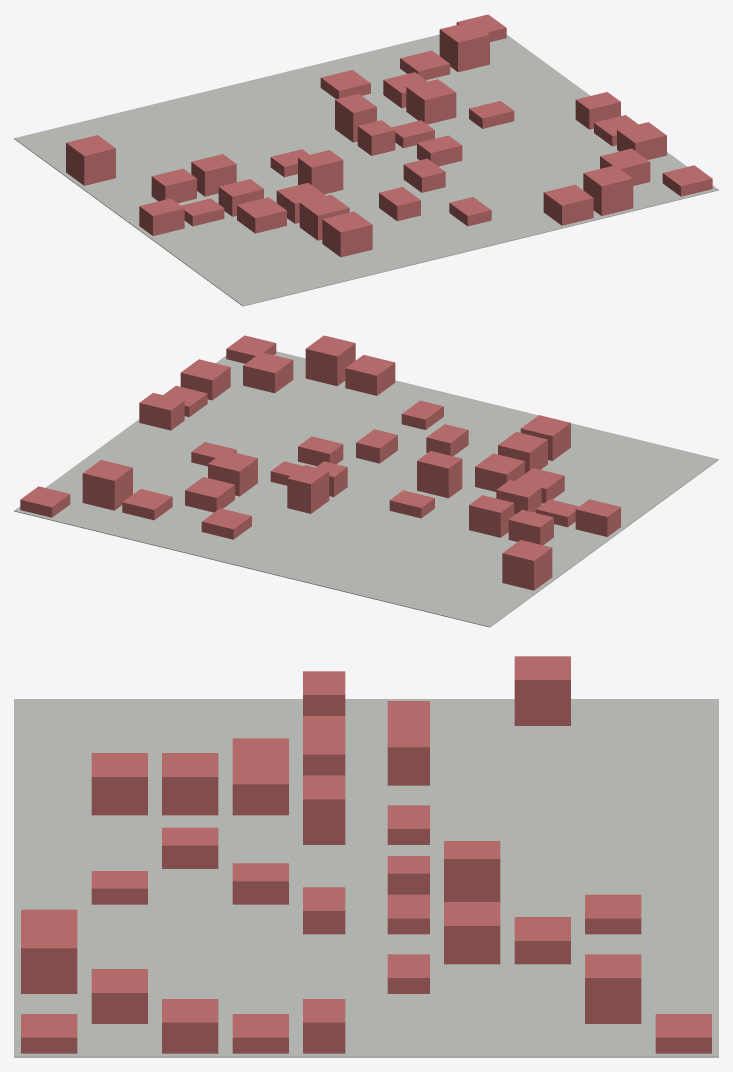
File: demo_campus_blocks.glb
3 views of the same model, one above another, from view 1: azimuth 30°, elevation 25°; view 2: azimuth 150°, elevation 25°; view 3: azimuth 270°, elevation 25° (orthographic). The views are drawn at different scales.
Parts seen in each view (by area): view 1: geometry_0, geometry_2, geometry_28, geometry_24, geometry_8, geometry_22, geometry_11, geometry_21, geometry_7, geometry_30, geometry_17, geometry_1 (+22 smaller); view 2: geometry_0, geometry_2, geometry_28, geometry_24, geometry_11, geometry_17, geometry_21, geometry_27, geometry_22, geometry_7, geometry_30, geometry_1 (+22 smaller); view 3: geometry_0, geometry_2, geometry_24, geometry_28, geometry_8, geometry_9, geometry_22, geometry_17, geometry_10, geometry_27, geometry_30, geometry_11 (+21 smaller).
Part boxes in pixels (bbox=[...]): geometry_0: bbox=[14, 34, 718, 306]; geometry_2: bbox=[66, 135, 115, 185]; geometry_28: bbox=[439, 21, 489, 72]; geometry_24: bbox=[583, 165, 633, 215]; geometry_8: bbox=[322, 211, 372, 257]; geometry_22: bbox=[406, 79, 456, 124]; geometry_11: bbox=[298, 150, 343, 194]; geometry_21: bbox=[543, 184, 593, 225]; geometry_7: bbox=[191, 154, 236, 196]; geometry_30: bbox=[617, 122, 666, 159]; geometry_17: bbox=[335, 93, 376, 142]; geometry_1: bbox=[139, 198, 184, 235]; geometry_0: bbox=[14, 351, 718, 627]; geometry_2: bbox=[502, 540, 552, 590]; geometry_28: bbox=[82, 460, 132, 510]; geometry_24: bbox=[305, 335, 355, 386]; geometry_11: bbox=[417, 451, 462, 498]; geometry_17: bbox=[287, 465, 329, 513]; geometry_21: bbox=[345, 355, 395, 395]; geometry_27: bbox=[243, 352, 293, 393]; geometry_22: bbox=[208, 450, 257, 496]; geometry_7: bbox=[469, 495, 514, 537]; geometry_30: bbox=[180, 359, 230, 400]; geometry_1: bbox=[575, 499, 620, 536]; geometry_0: bbox=[14, 699, 718, 1057]; geometry_2: bbox=[514, 656, 570, 725]; geometry_24: bbox=[21, 924, 77, 993]; geometry_28: bbox=[585, 954, 641, 1023]; geometry_8: bbox=[91, 753, 147, 815]; geometry_9: bbox=[162, 753, 218, 815]; geometry_22: bbox=[444, 902, 500, 964]; geometry_17: bbox=[444, 841, 500, 901]; geometry_10: bbox=[232, 760, 288, 815]; geometry_27: bbox=[91, 969, 147, 1023]; geometry_30: bbox=[162, 999, 218, 1053]; geometry_11: bbox=[303, 775, 345, 844].
Bounding box in the file's own units: 360 × 22 × 300.
